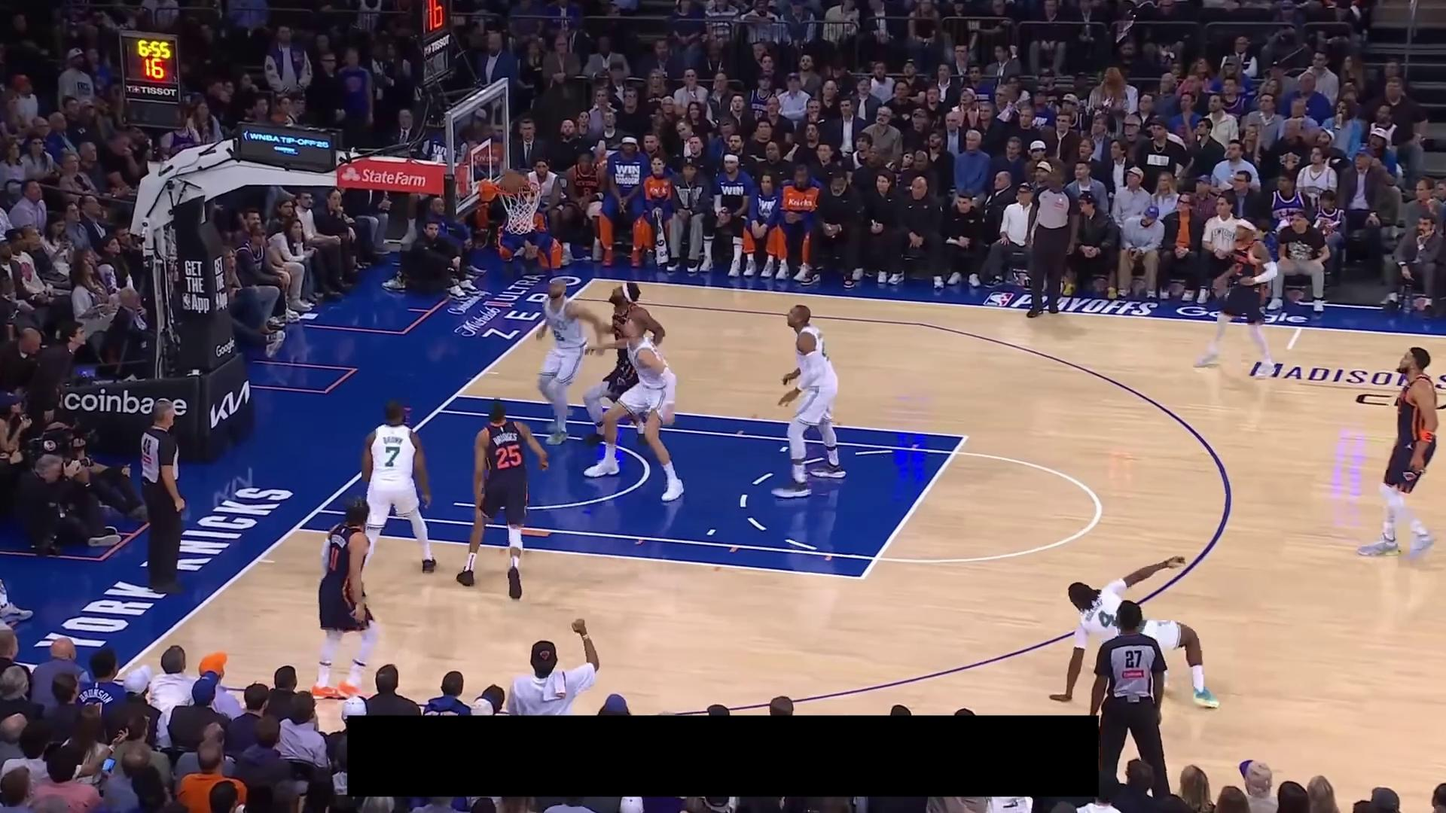ball: (499, 169, 526, 193)
number: (495, 443, 523, 469), (1098, 610, 1119, 629), (383, 445, 401, 467), (328, 545, 340, 573), (552, 328, 565, 342), (1234, 261, 1244, 277)
player: (1047, 552, 1221, 707), (456, 397, 551, 601), (583, 317, 684, 502), (1355, 346, 1440, 562), (771, 302, 848, 499), (310, 494, 382, 701), (358, 397, 440, 577), (1192, 215, 1280, 382), (582, 282, 666, 445), (535, 277, 607, 445)
referee: (1089, 600, 1172, 799), (139, 398, 189, 594), (1022, 162, 1081, 318)
rim: (493, 179, 541, 196)
